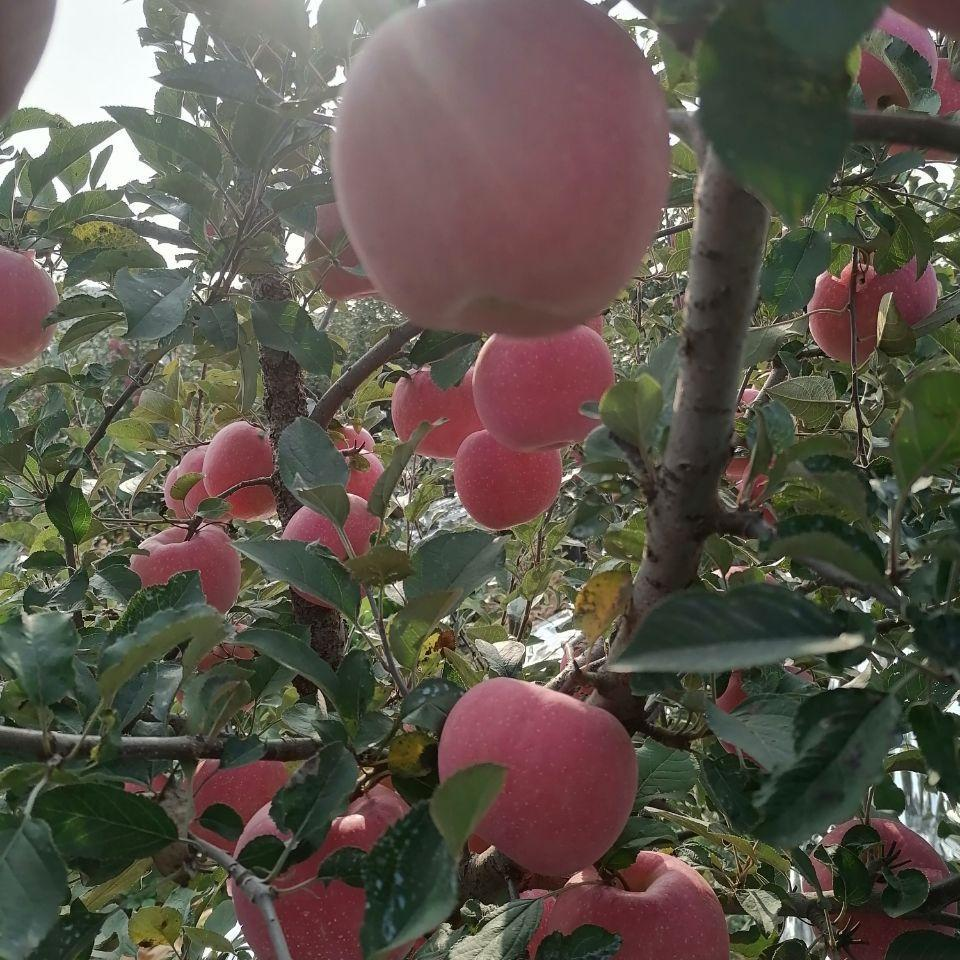apple: (331, 5, 671, 338), (436, 676, 637, 878), (470, 320, 614, 460), (454, 426, 561, 528), (130, 526, 237, 615), (204, 425, 290, 523), (1, 246, 59, 369)
